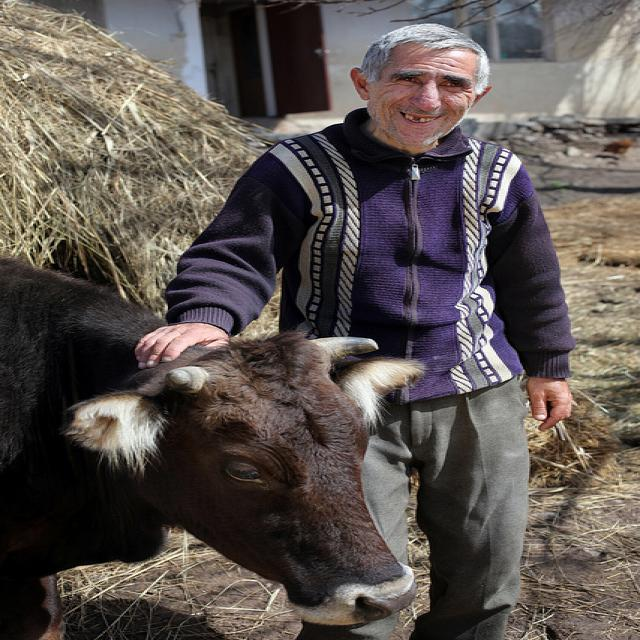cow: (0, 251, 415, 630)
